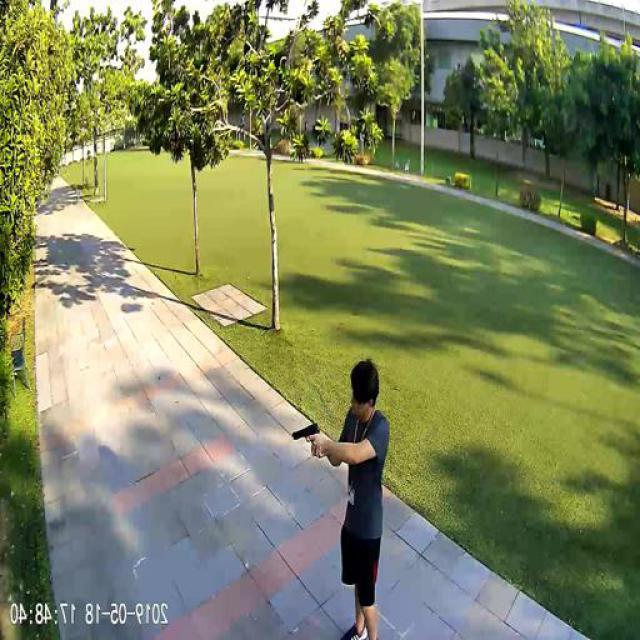Gun: (294, 418, 322, 442)
